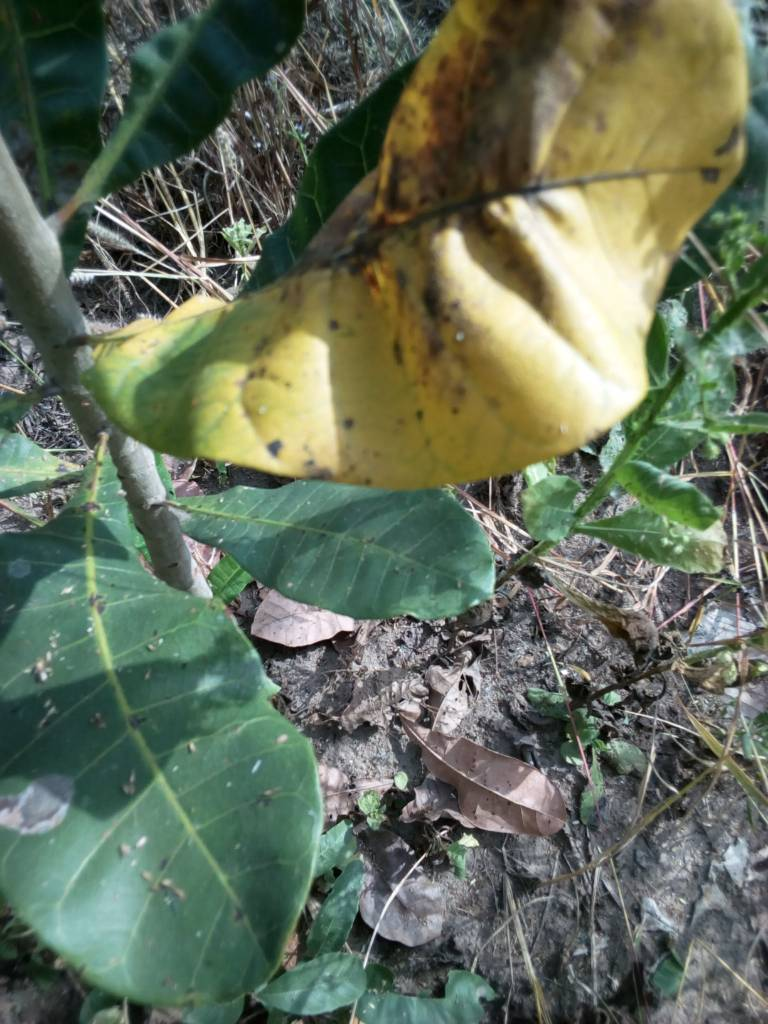Anthracnose: (85, 6, 768, 486)
